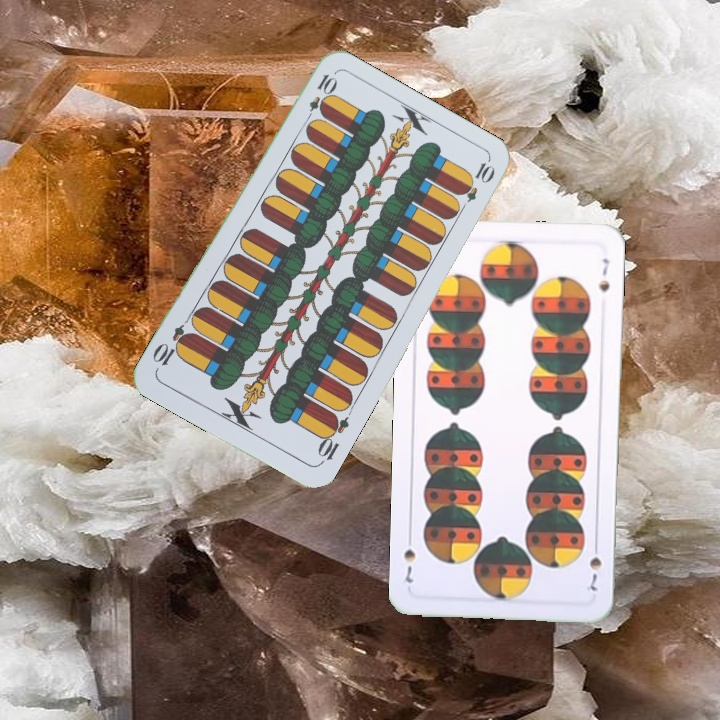E10: (313, 410, 352, 467), (301, 70, 338, 126)
S7: (585, 538, 604, 594)
